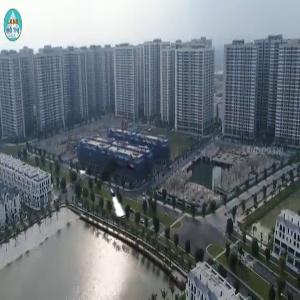drone: (80, 142, 157, 219)
